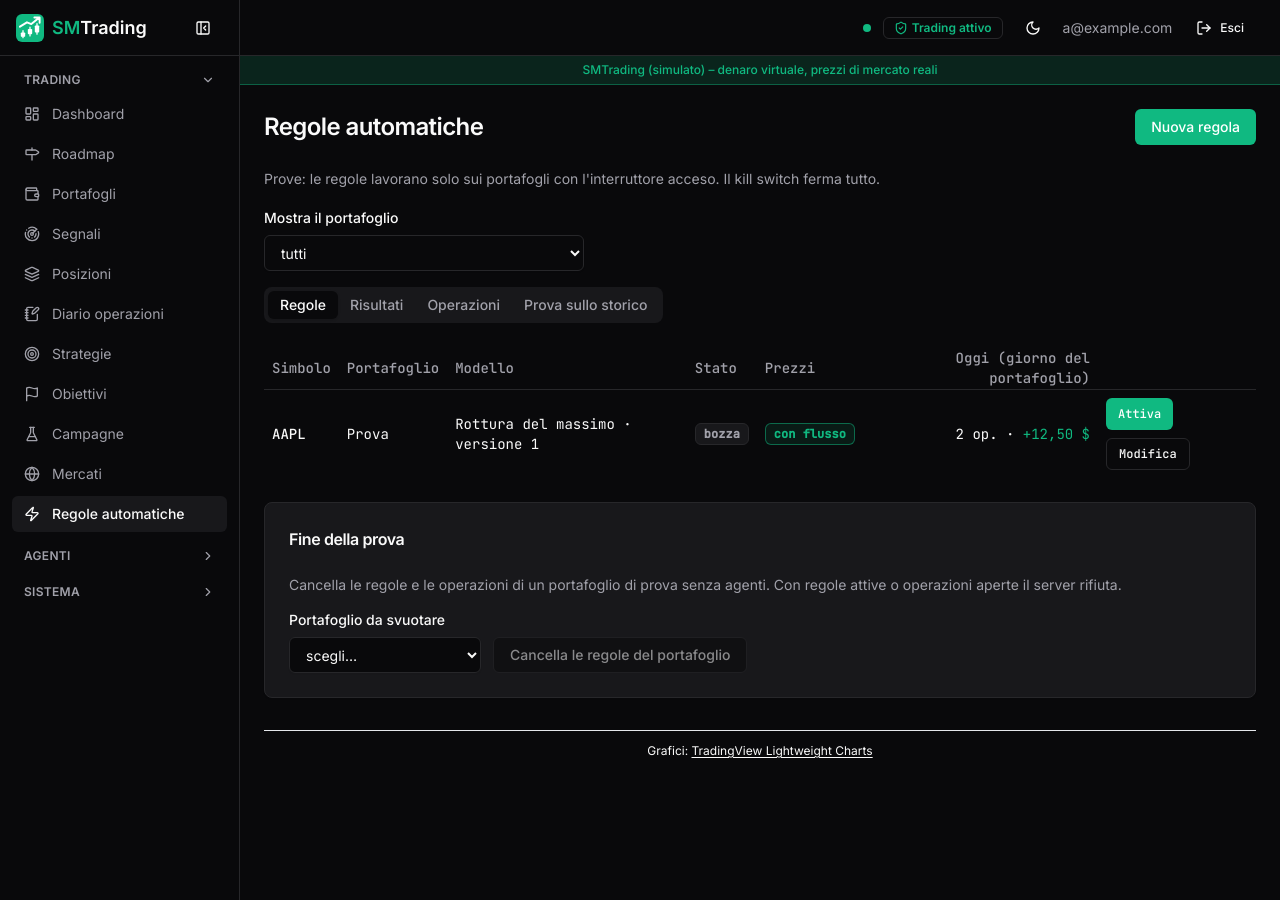
Test case: AutoRules › shows the results per rule and day, with the blocked entries by reason and the UTC label
Click the tab "Risultati": click(377, 305) [338,291,415,319]
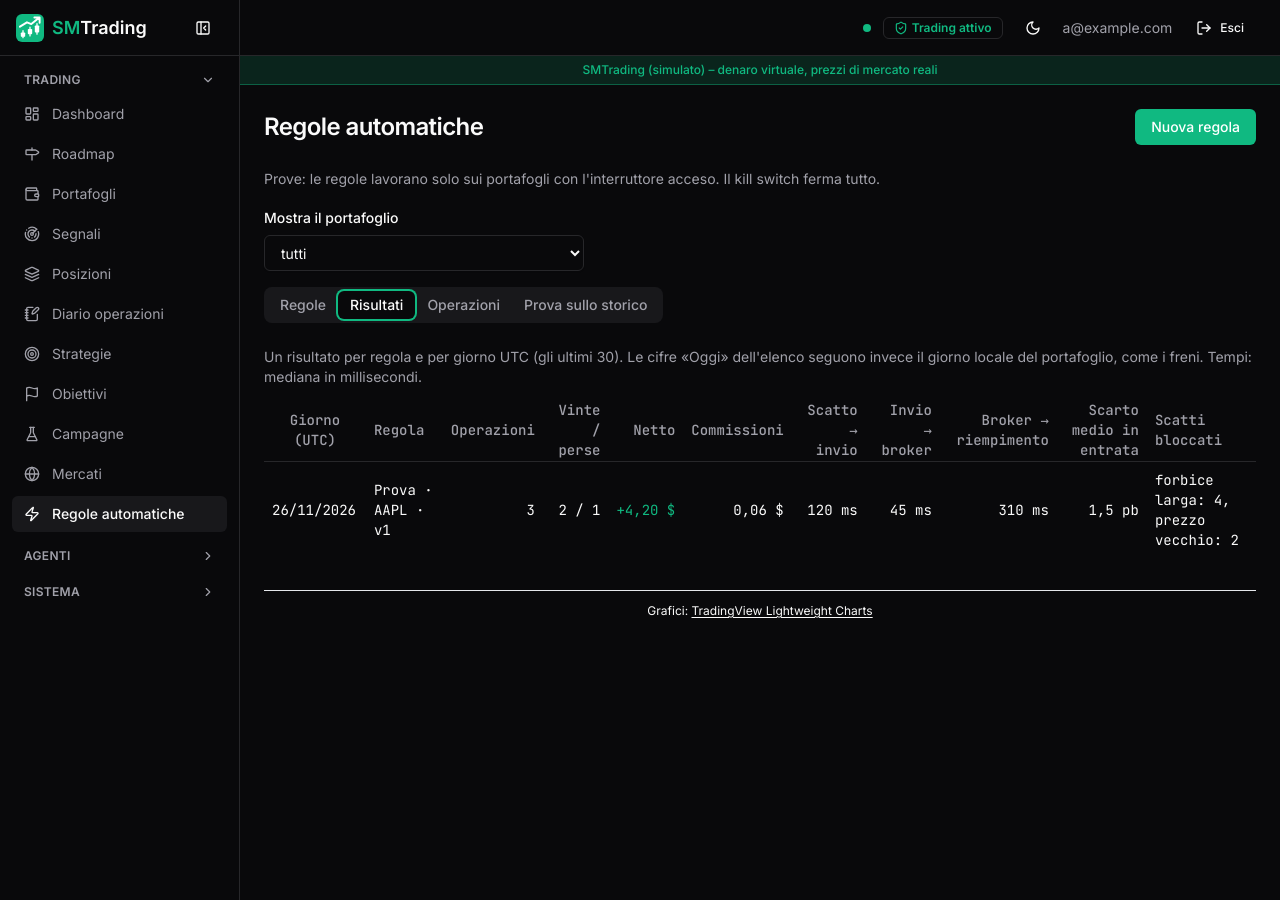
Result: the text "26/11/2026" is shown at [272,501,356,519]
Result: the text "forbice larga: 4, prezzo vecchio: 2" is shown at [1147,462,1256,558]
Result: the text "2 / 1" is shown at [558,501,600,519]
